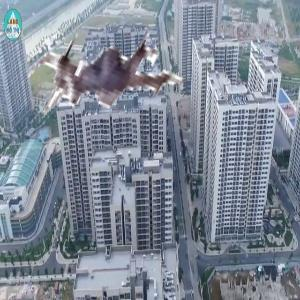drone: (27, 4, 194, 171)
